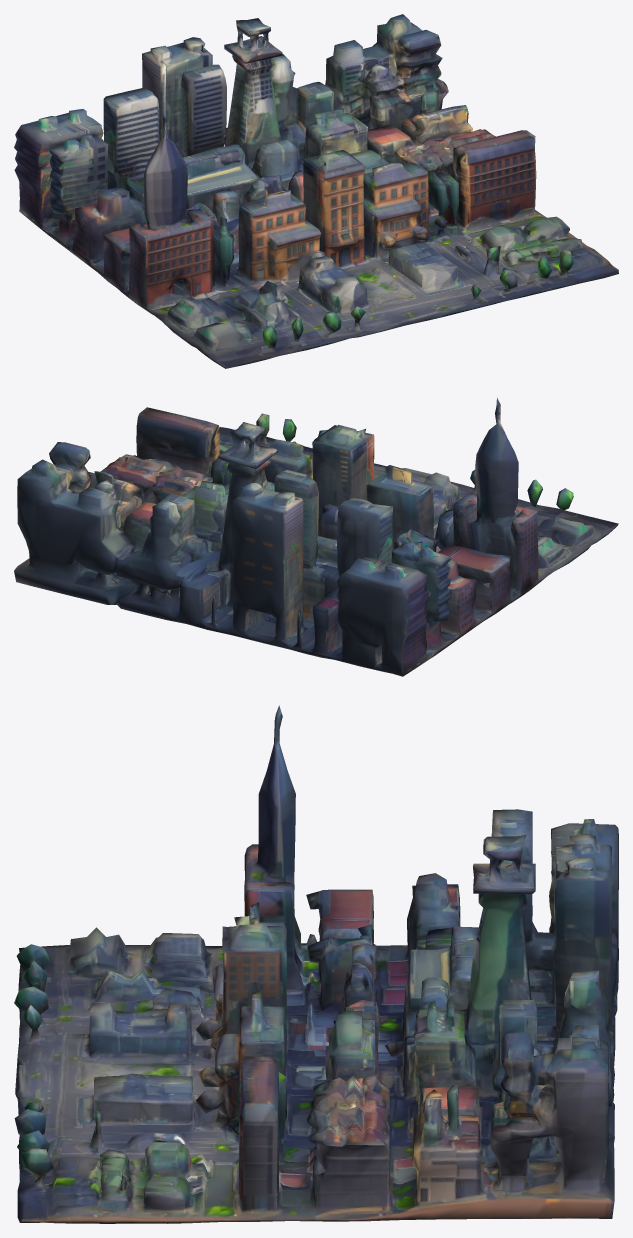
Rendered from low-poly-city.glb.
The picture shows the model from 3 angles, top to bottom: view 1: azimuth 30°, elevation 25°; view 2: azimuth 150°, elevation 25°; view 3: azimuth 270°, elevation 25°; orthographic projection. The views are drawn at different scales.
Size of the model in its own units: 2.01 by 0.9056 by 1.86.
Materials: 1 (1 with a texture image).
